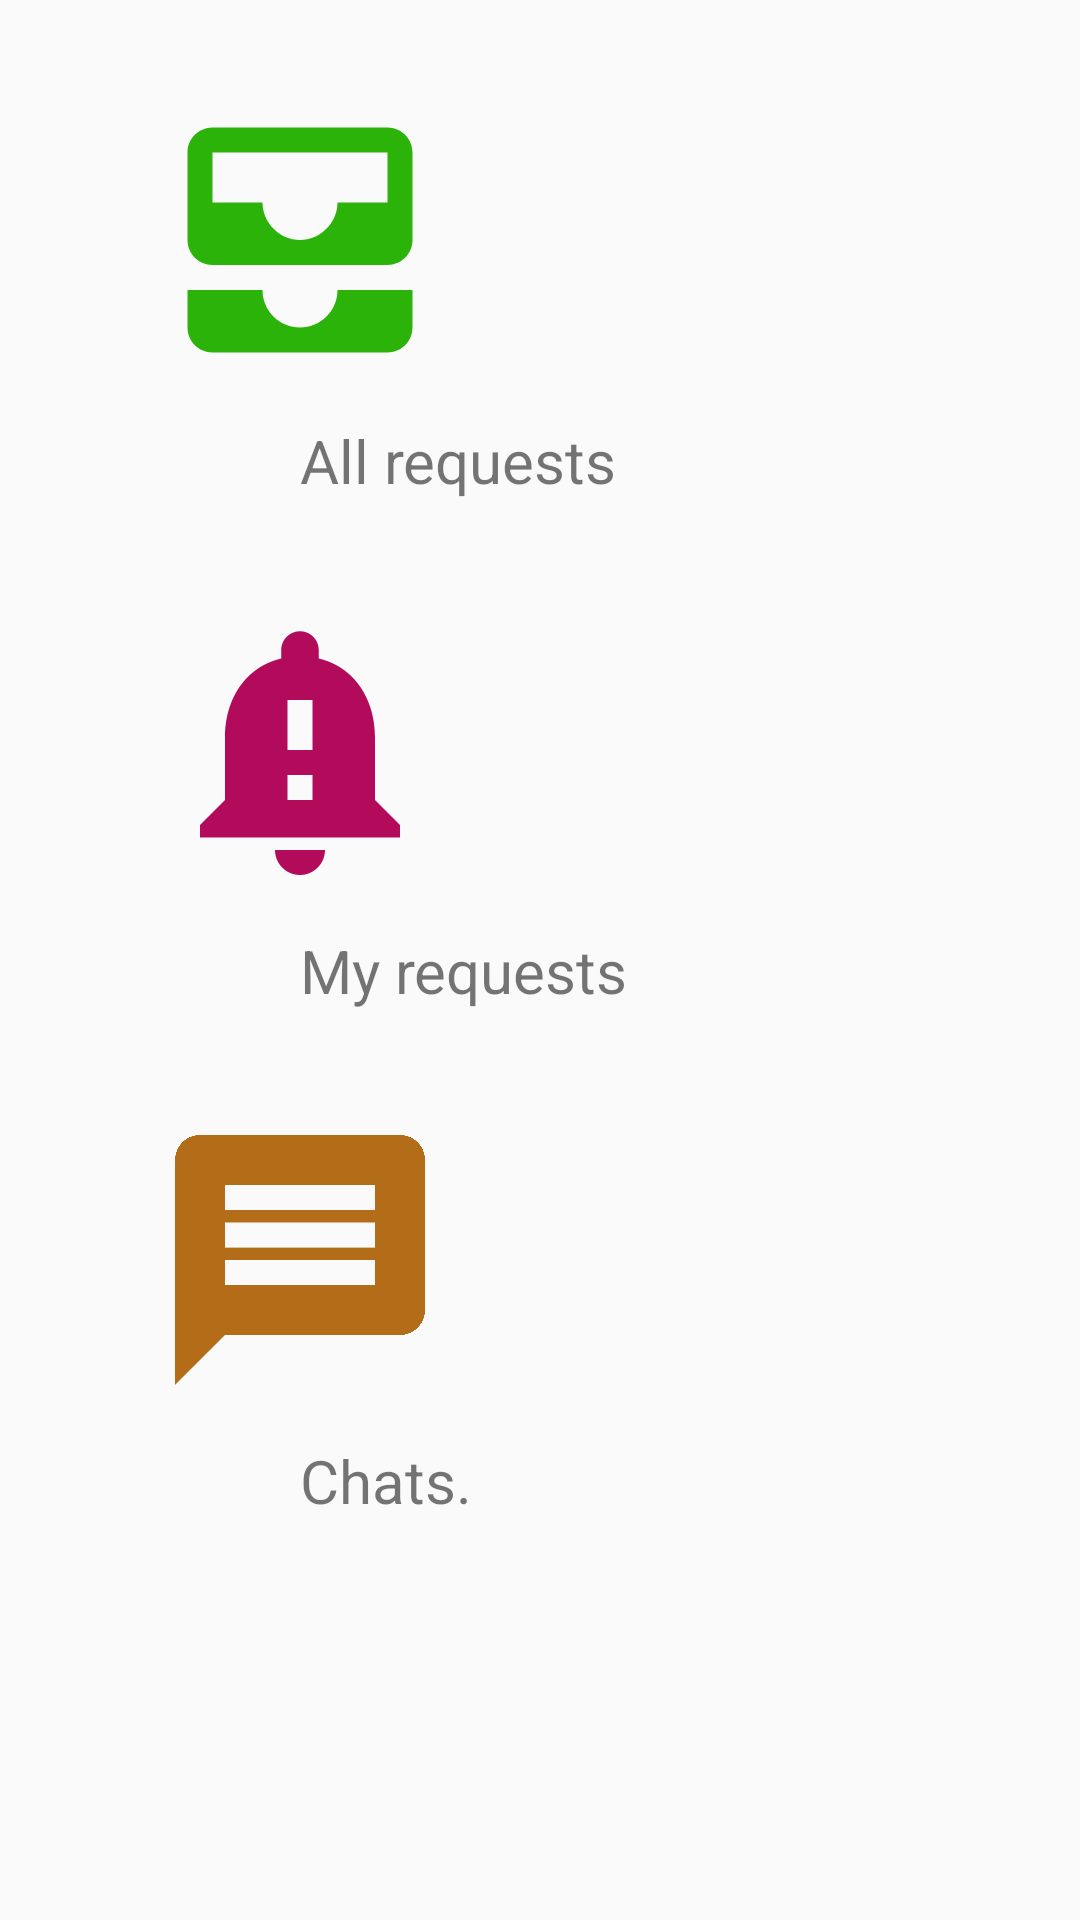

Where icons sit on this 1080 × 1920 app screen, as (x1, y1, x2, y2):
all inbox: (187, 127, 413, 353)
message: (175, 1135, 425, 1385)
notification important: (200, 631, 400, 875)
